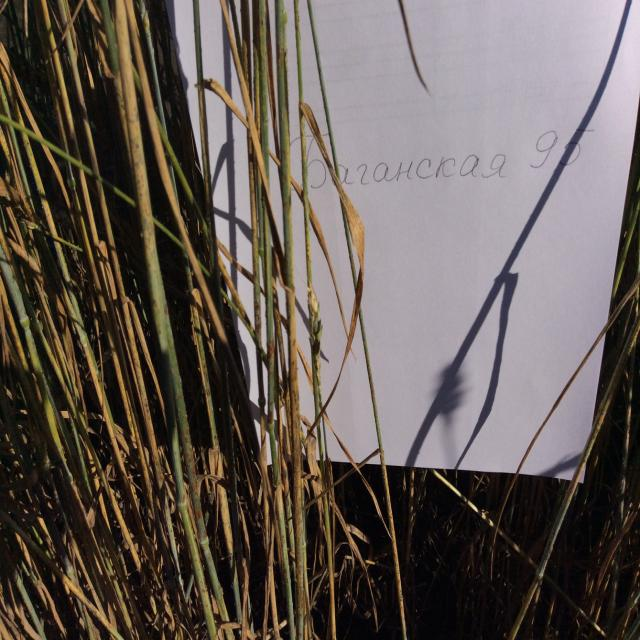wheat-stemrust: (91, 134, 145, 387), (125, 129, 169, 320), (6, 157, 45, 296), (287, 285, 306, 560)
